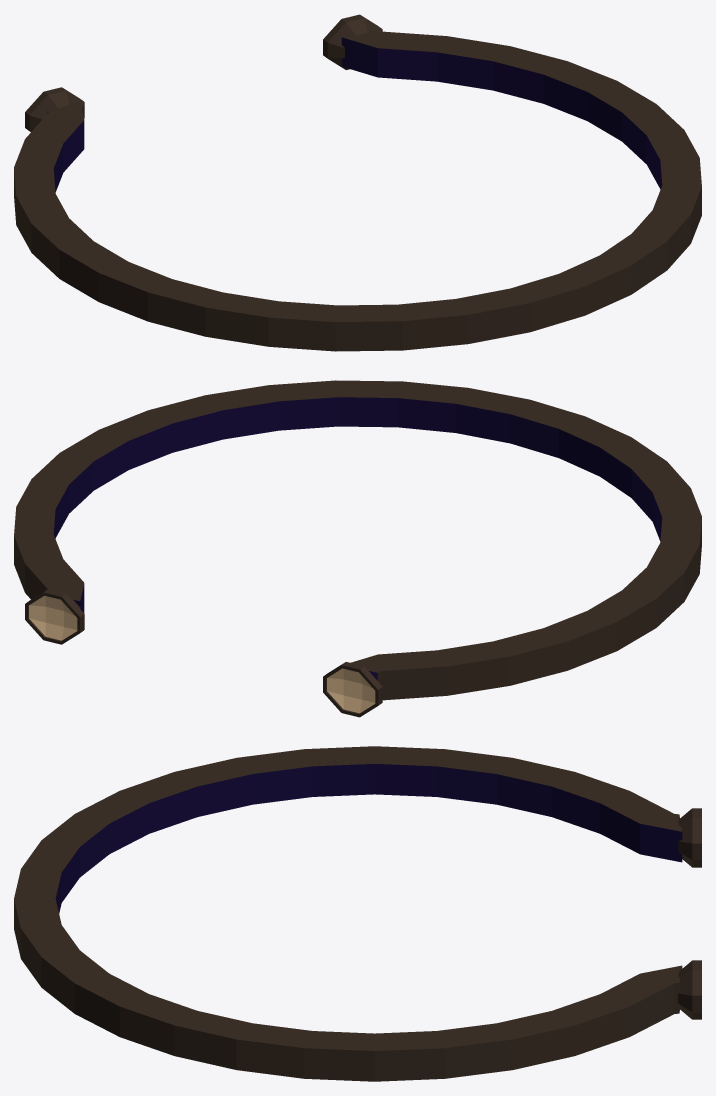
File: cyber_gimble.glb
The picture shows the model from 3 angles, top to bottom: view 1: azimuth 30°, elevation 25°; view 2: azimuth 150°, elevation 25°; view 3: azimuth 270°, elevation 25°; orthographic projection. The views are drawn at different scales.
Parts seen in each view (by area): view 1: Gimble; view 2: Gimble; view 3: Gimble.
Boxes of the visible parts, box(x1,y1,x2,y2) form: Gimble: box(14, 14, 701, 351); Gimble: box(14, 380, 701, 717); Gimble: box(14, 746, 701, 1081).
Bounding box in the file's own units: 2.61 × 0.2 × 2.49.
1 material, 1 textured.
